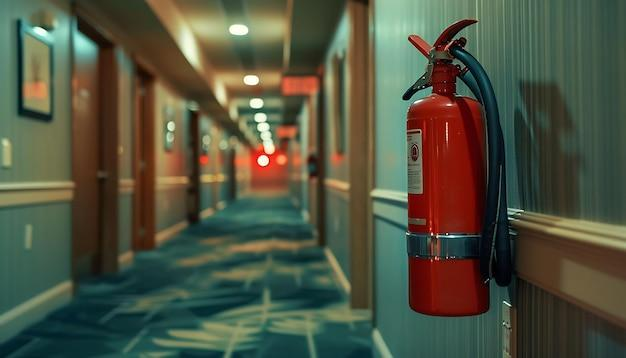wall-mounted: (383, 23, 511, 322)
